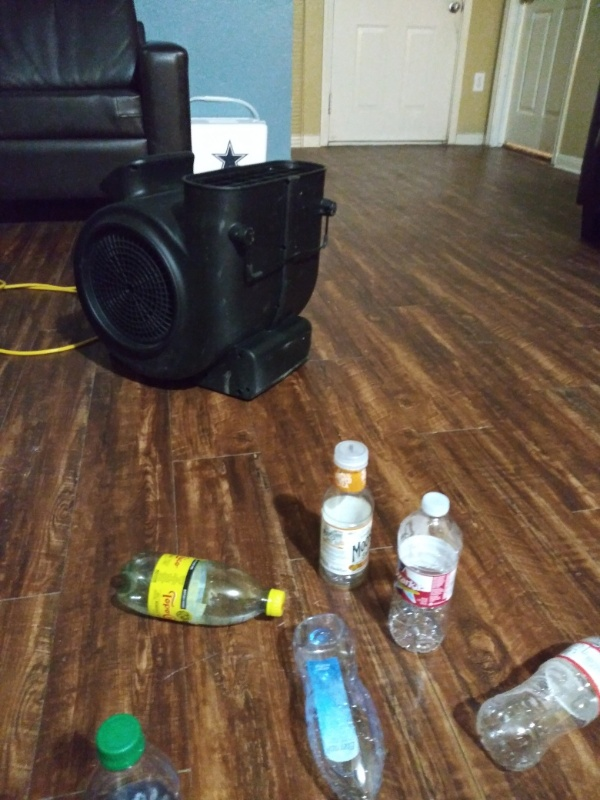bottle: (286, 611, 391, 800), (471, 625, 600, 778), (112, 549, 296, 630), (385, 491, 468, 656), (69, 708, 190, 800), (312, 435, 372, 595)
